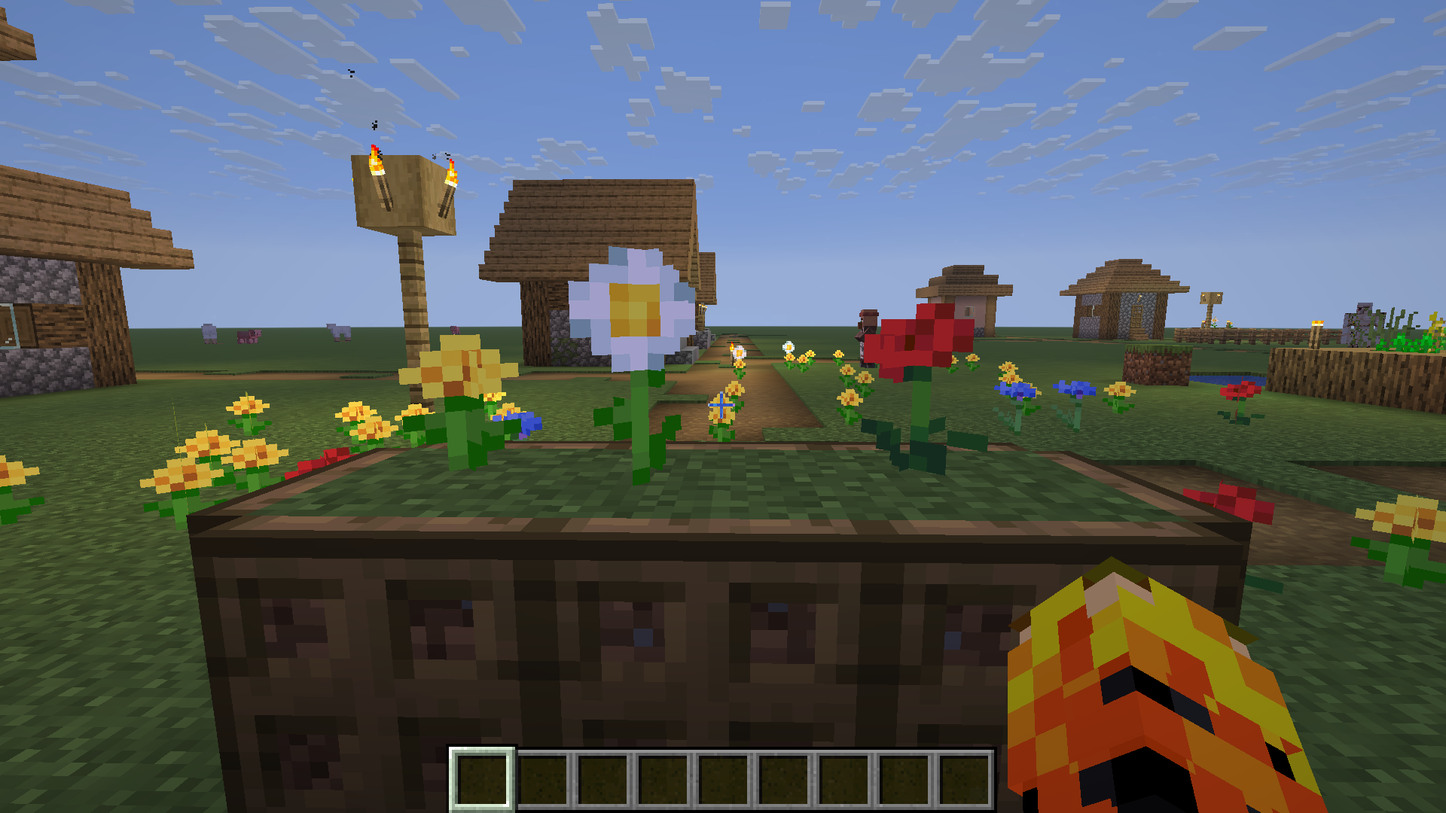Sheep: (321, 313, 363, 347), (193, 313, 217, 352)
flower: (554, 234, 698, 493), (857, 329, 995, 494), (408, 324, 527, 479), (1048, 368, 1100, 449)
villager: (850, 295, 883, 336)
